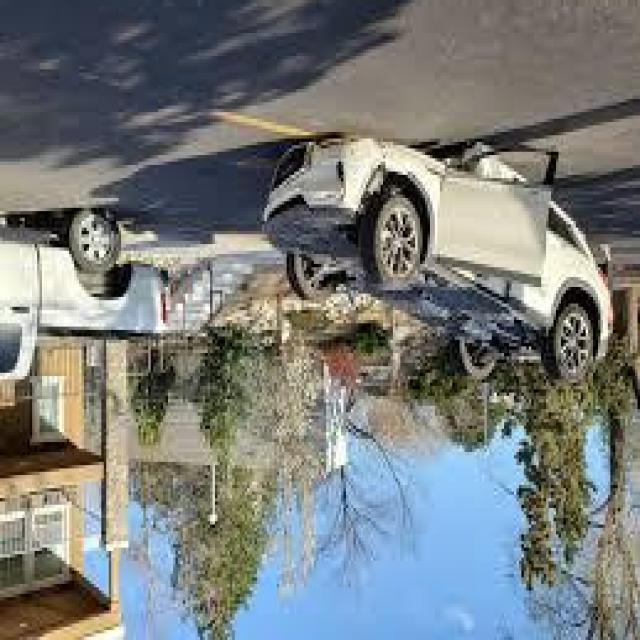severe: (258, 128, 614, 392)
